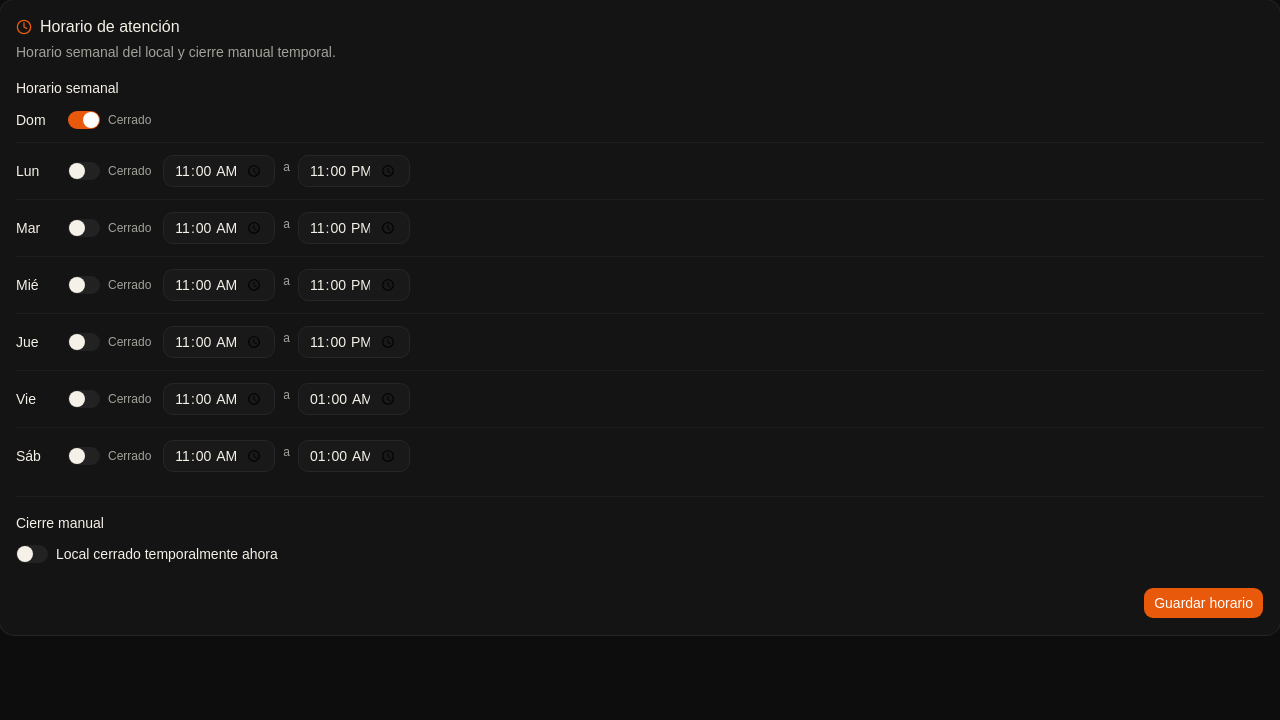
Test case: BusinessHoursSettingsCard › rechaza open === close: muestra error y no envía el submit
Replace the text in the time field named "Lun hora de cierre" with "11:00": (354, 171) [298,155,410,187]
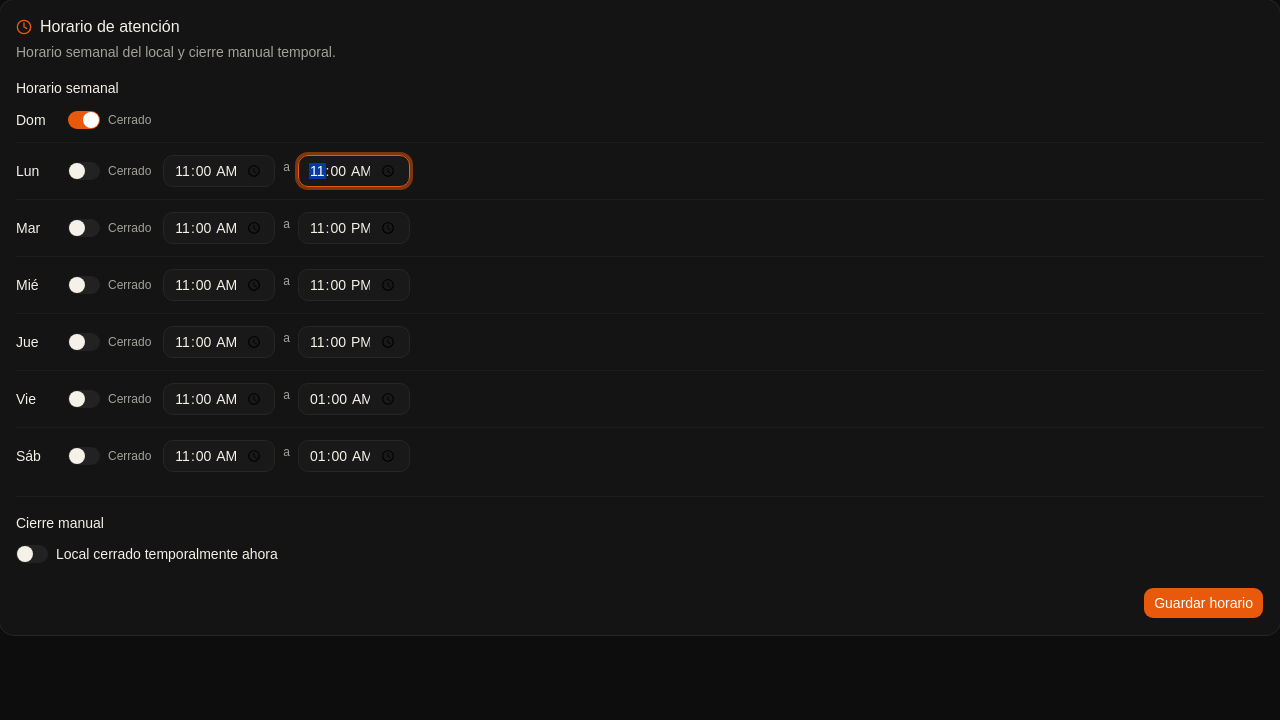
Click the button "Guardar horario": (1204, 603) [1143,587,1264,619]
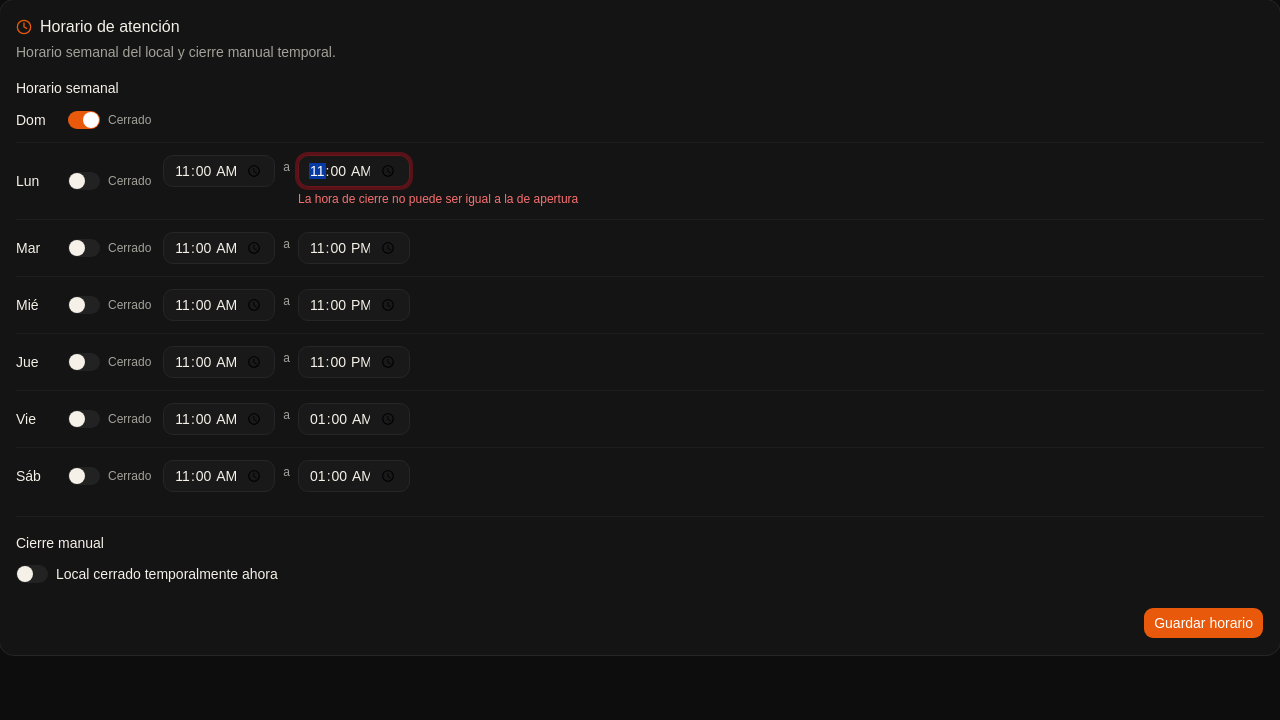
expect the text "La hora de cierre no puede ser igual a la de apertura" is shown: met, box [298,191,578,207]
